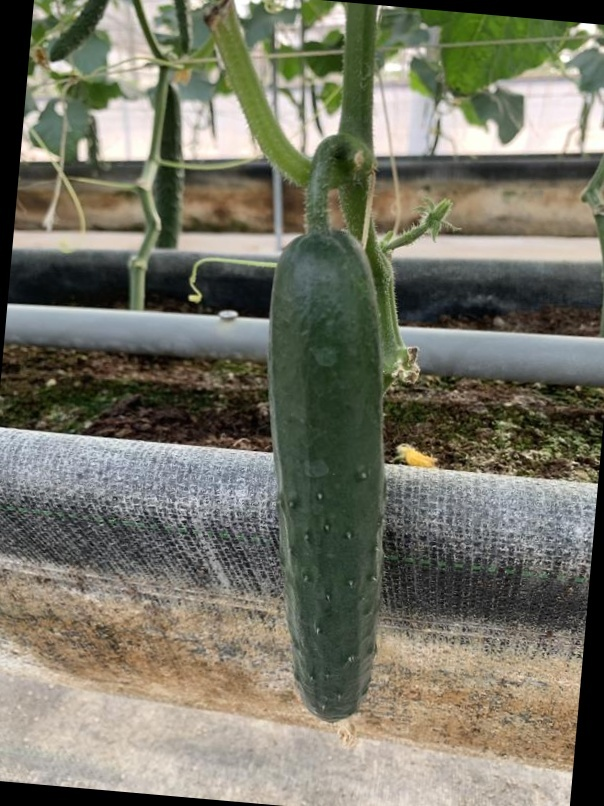mature: (256, 228, 401, 740)
